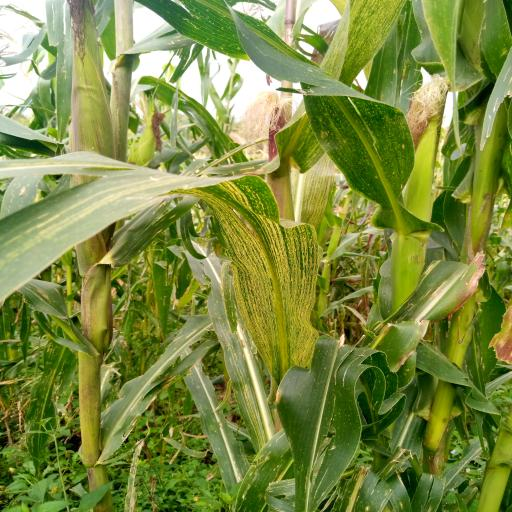Corn_Streak: (0, 150, 319, 390), (145, 0, 424, 230)
